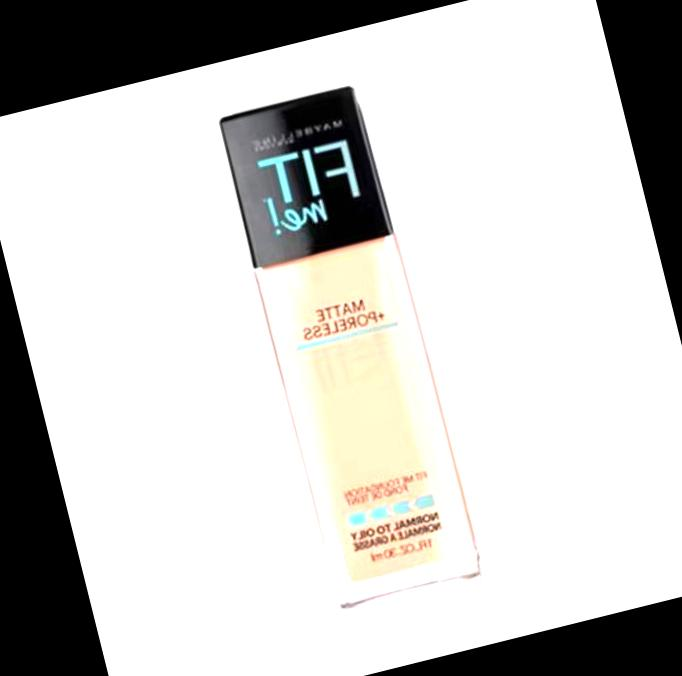cosmetic: (214, 83, 479, 621)
